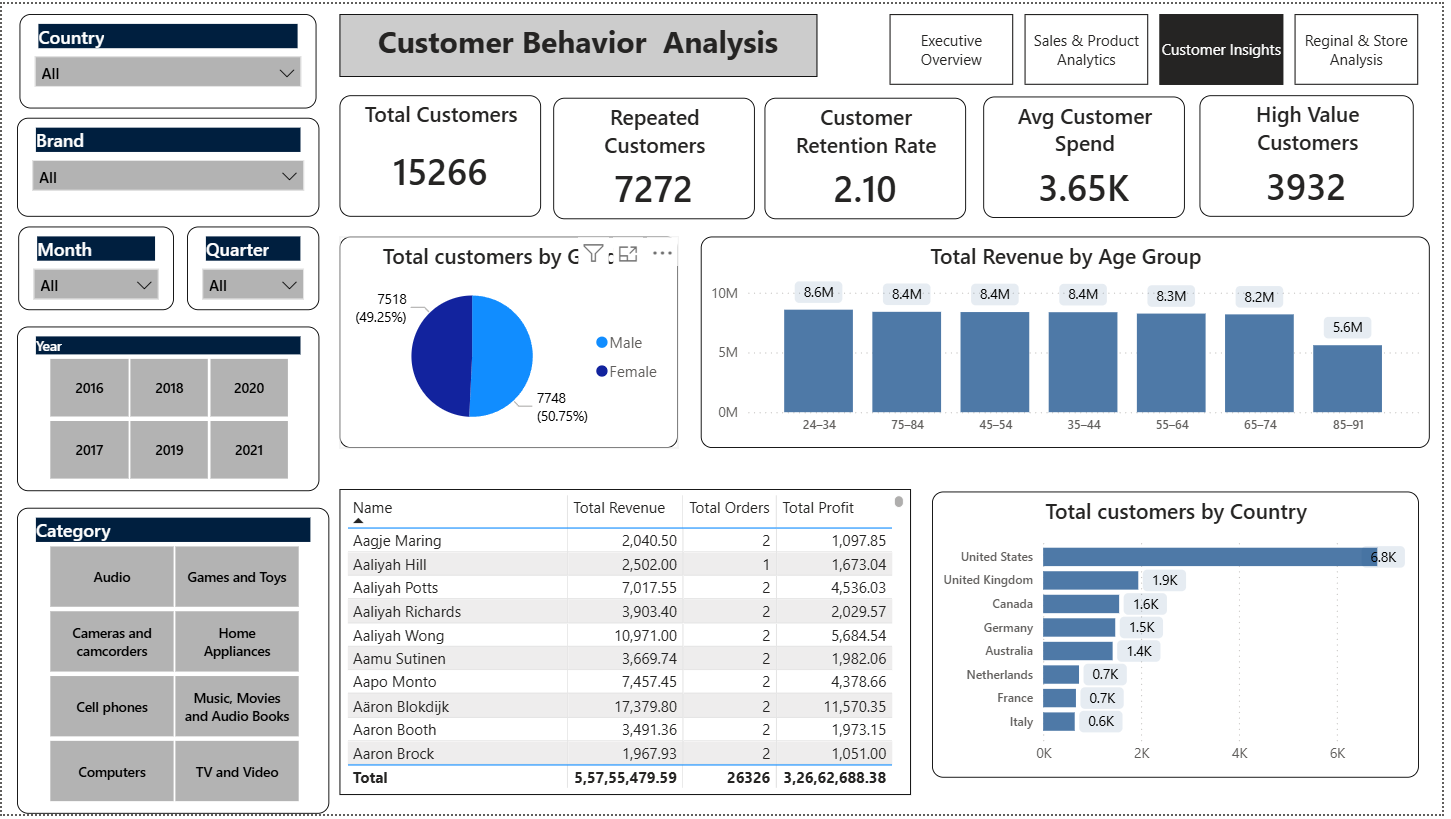

What the dashboard file says about the page in this screenshot:
{"tool":"powerbi","page":{"name":"Customer Insights","canvas":[1280,720],"ordinal":2},"visuals":[{"type":"slicer","fields":{"Values":["Customers.Country"]},"box":[15.1,9.3,264,83.7],"z":0},{"type":"cardVisual","title":"Customer Retention Rate","fields":{"Data":["Customers.Customer Retention Rate %"]},"box":[677.9,83.7,179,108],"z":1000},{"type":"cardVisual","title":"Avg Customer Spend","fields":{"Data":["Customers.Average Customer Spend"]},"box":[872.1,82.6,179.1,108],"z":2000},{"type":"cardVisual","title":"Total Customers","fields":{"Data":["Customers.Total customers"]},"box":[300,81.4,179.1,108],"z":3000},{"type":"slicer","fields":{"Values":["Products.Category"]},"box":[12.8,447.7,277.9,272.1],"z":4000},{"type":"slicer","fields":{"Values":["Products.Brand"]},"box":[12.8,101.2,268.6,88.4],"z":5000},{"type":"slicer","fields":{"Values":["DateTable.Month Name"]},"box":[14,197.7,138.4,74.4],"z":6000},{"type":"slicer","fields":{"Values":["DateTable.Year"]},"box":[12.8,287.2,268.6,146.5],"z":7000},{"type":"slicer","fields":{"Values":["DateTable.Quarter"]},"box":[164,197.7,117.4,74.4],"z":8000},{"type":"textbox","box":[300,9.3,424.4,55.8],"z":9000},{"type":"pieChart","fields":{"Category":["Customers.Gender"],"Y":["Customers.Total customers"]},"box":[300,207,301.2,188.4],"z":10000},{"type":"tableEx","fields":{"Values":["Customers.Name","Customers.Total Revenue","Customers.Total Orders","Customers.Total Profit"]},"box":[300,431.4,508.1,272.1],"z":11000},{"type":"clusteredColumnChart","fields":{"Y":["Customers.Total Revenue"],"Category":["Customers.Age Group"]},"box":[620.9,207,647.7,188.4],"z":12000},{"type":"cardVisual","title":"High Value Customers","fields":{"Data":["Customers.High Value Customers"]},"box":[1064,81.4,190.7,108.1],"z":13000},{"type":"clusteredBarChart","fields":{"Y":["Customers.Total customers"],"Category":["Customers.Country"]},"box":[826.7,433.7,432.6,254.7],"z":14000},{"type":"cardVisual","title":"Repeated  Customers","fields":{"Data":["Customers.Repeat Customers"]},"box":[489.5,83.7,179.1,108],"z":15000},{"type":"pageNavigator","box":[788.4,9.3,470.9,64],"z":16000}]}

Visuals, with their boxes in screenshot pixels (x1, y1, x2, y2), scaled from the page's 1280x720 canvas onto the 1451x819 screenshot:
slicer - Customers.Country: 17/11/316/106
"Customer Retention Rate" cardVisual: 768/95/971/218
"Avg Customer Spend" cardVisual: 989/94/1192/217
"Total Customers" cardVisual: 340/93/543/215
slicer - Products.Category: 15/509/330/818
slicer - Products.Brand: 15/115/319/216
slicer - DateTable.Month Name: 16/225/173/310
slicer - DateTable.Year: 15/327/319/493
slicer - DateTable.Quarter: 186/225/319/310
textbox: 340/11/821/74
pieChart - Customers.Gender x Customers.Total customers: 340/235/682/450
tableEx - Customers.Name x Customers.Total Revenue: 340/491/916/800
clusteredColumnChart - Customers.Total Revenue x Customers.Age Group: 704/235/1438/450
"High Value Customers" cardVisual: 1206/93/1422/216
clusteredBarChart - Customers.Total customers x Customers.Country: 937/493/1428/783
"Repeated  Customers" cardVisual: 555/95/758/218
pageNavigator: 894/11/1428/83
